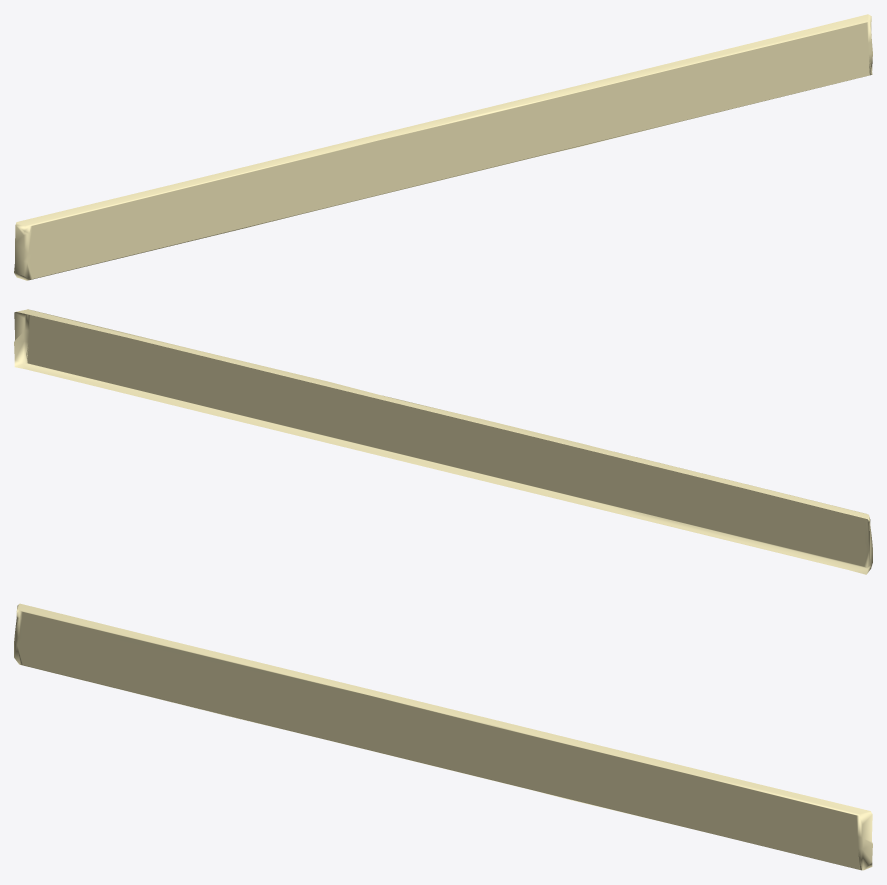
Rendered from menuBar.glb.
The picture shows the model from 3 angles, top to bottom: view 1: azimuth 30°, elevation 25°; view 2: azimuth 150°, elevation 25°; view 3: azimuth 330°, elevation 25°; orthographic projection.
Visible parts, largest first — view 1: Cube.001; view 2: Cube.001; view 3: Cube.001.
Boxes of the visible parts, left/top/right/bottom form: Cube.001: left=14, top=14, right=872, bottom=280; Cube.001: left=14, top=309, right=872, bottom=574; Cube.001: left=14, top=603, right=872, bottom=870.
Bounding box in the file's own units: 2.06 × 0.1299 × 0.0291.
